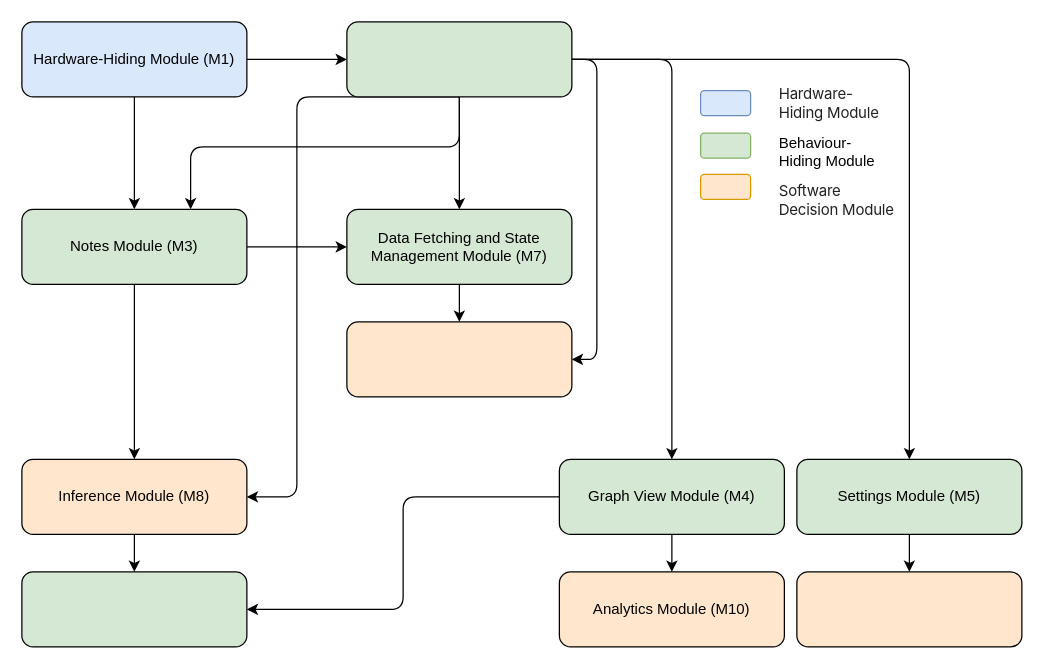
The diagram is 1044 pixels wide and 669 high, and some of its shapes have lost their labels. The shapes that lost their labels are listed below. From the top down, each one's centre as x and y in pixels, then its label:
the point at 459,59: Editor Module (M2)
the point at 459,359: Export and Integration Module (M11)
the point at 134,609: Rendering Module (M6)
the point at 909,609: User Configuration Module (M9)
